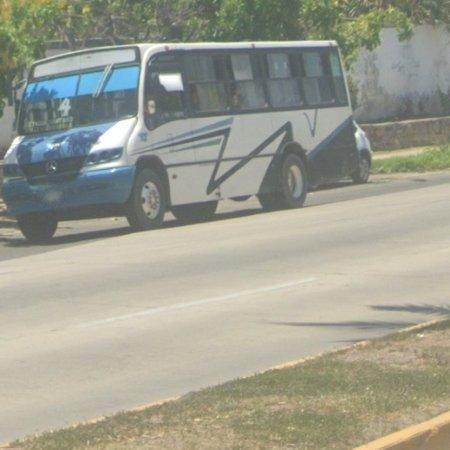buses: (2, 40, 373, 241)
